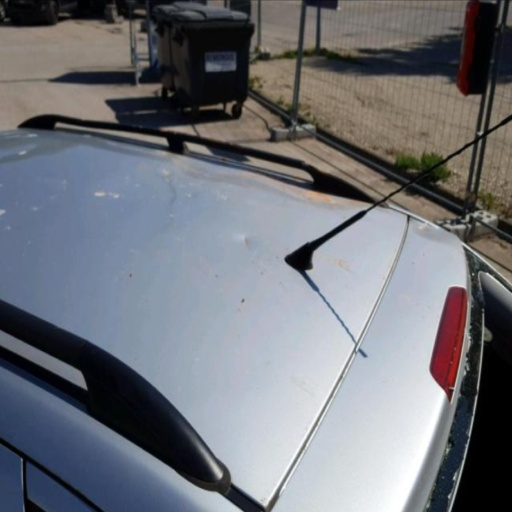dent: (1, 135, 60, 172), (188, 158, 236, 181), (411, 220, 459, 241), (268, 180, 320, 199), (236, 225, 256, 250)
scratch: (174, 154, 368, 216), (3, 129, 21, 141), (26, 132, 38, 140)
